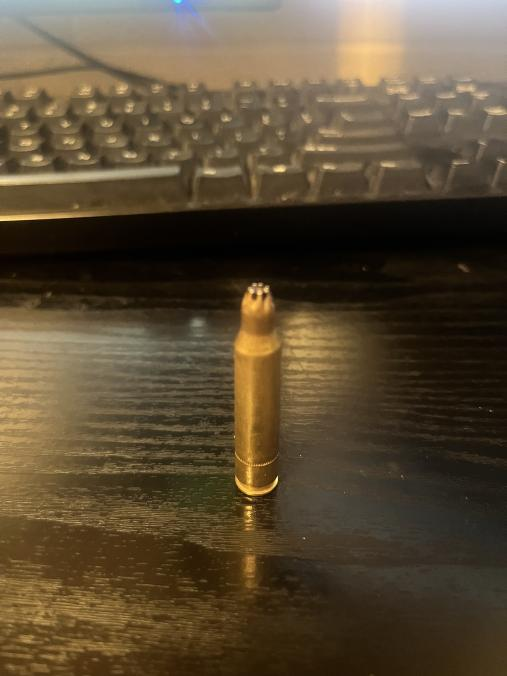556-unfired-blank: (231, 280, 284, 497)
